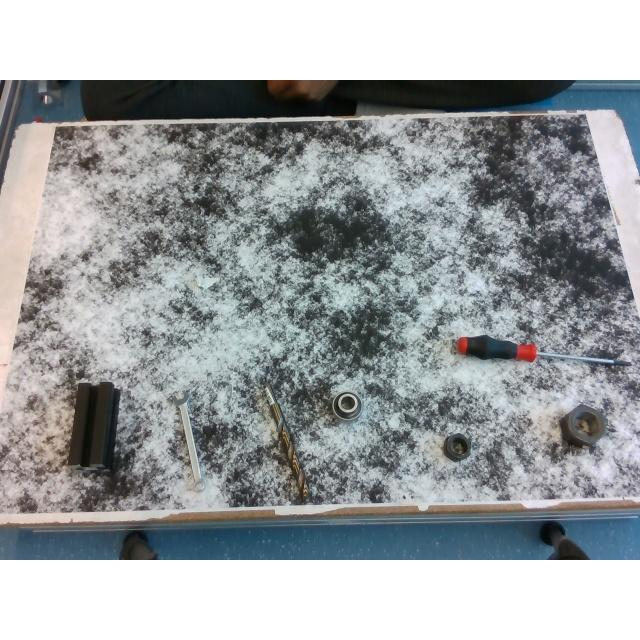Bearing2: (332, 392, 360, 420)
Drill: (263, 384, 309, 500)
M20: (443, 432, 471, 460)
M30: (560, 406, 606, 446)
S40_40_B: (68, 382, 120, 470)
